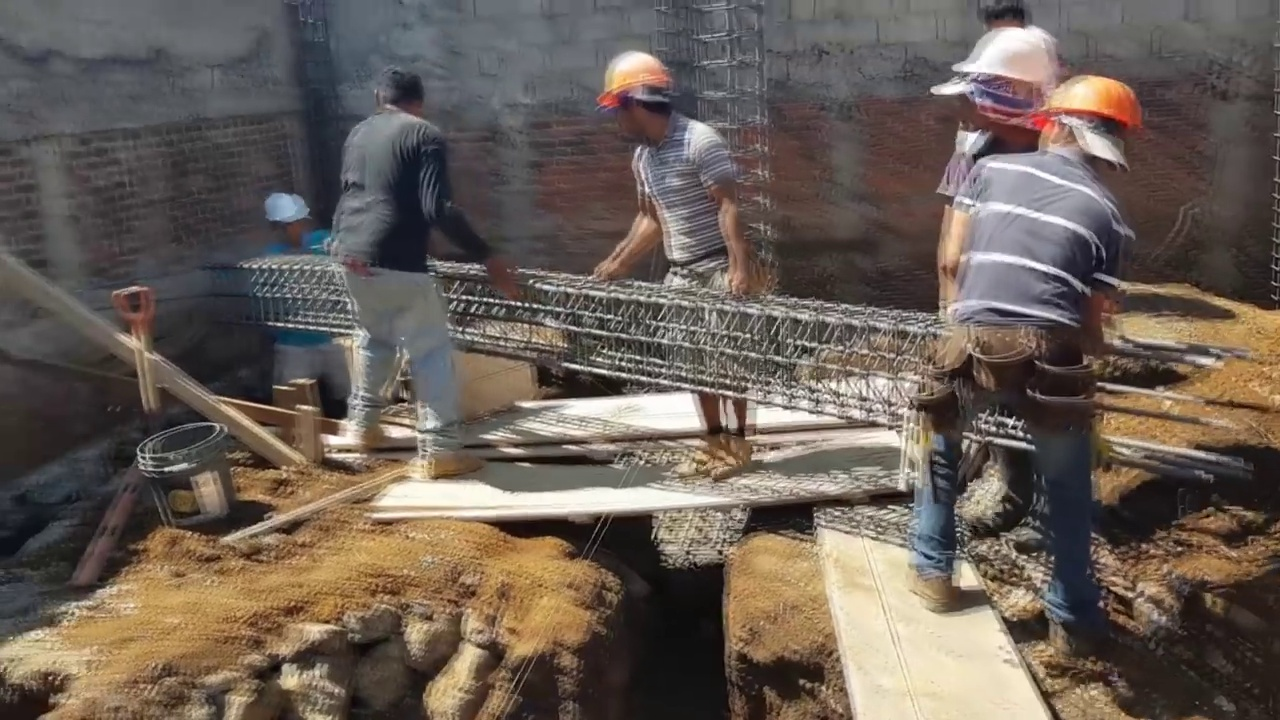helmet: (949, 18, 1065, 90), (1040, 68, 1146, 139), (594, 47, 683, 109), (261, 189, 309, 224)
helmet-off: (374, 71, 424, 118), (979, 3, 1026, 32)
helmet-on: (950, 17, 1063, 151), (1038, 67, 1147, 176), (594, 50, 682, 148), (261, 190, 308, 245)
person: (906, 73, 1160, 657), (591, 38, 777, 485), (327, 64, 488, 491), (244, 191, 342, 414)
